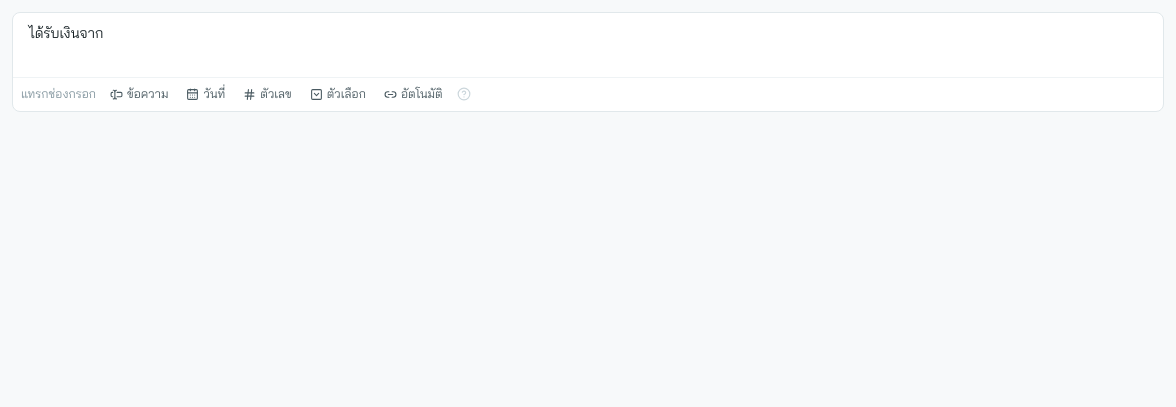
Test: TemplateTextarea — automatic fields › inserts one picked from a list, at the cursor, with nothing to type
Click the button with aria-label "แทรกช่องอัตโนมัติ". click: (413, 94)
box: x1=376 y1=82 x2=451 y2=106
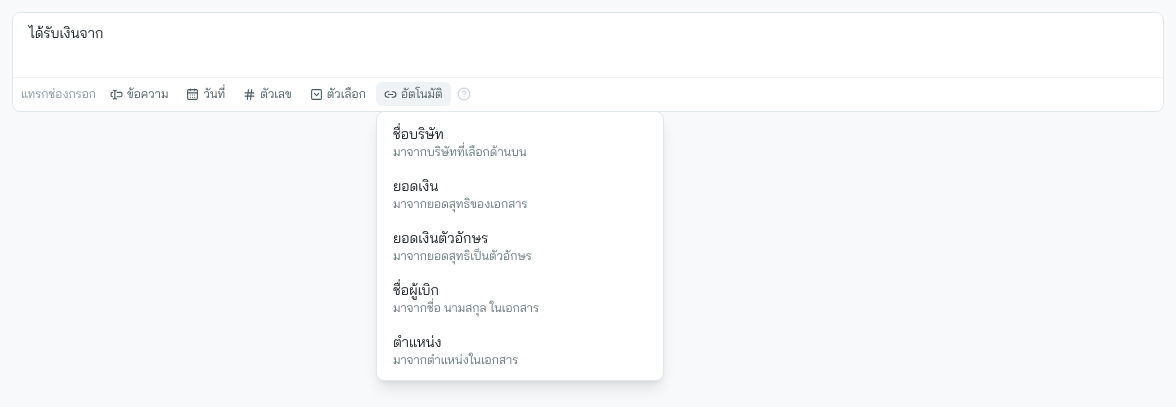
Click the menu item "ชื่อบริษัท". click: (520, 142)
box: x1=381 y1=116 x2=659 y2=168
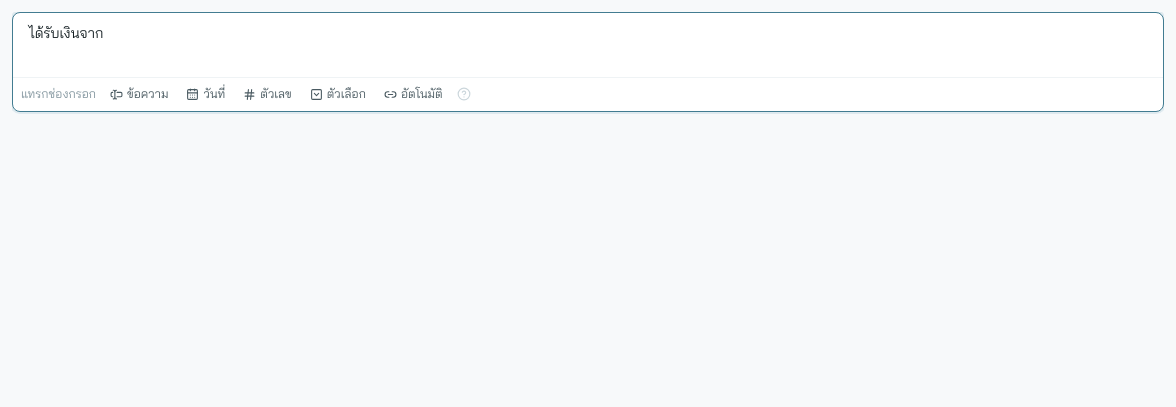
Expected: the menu is gone
